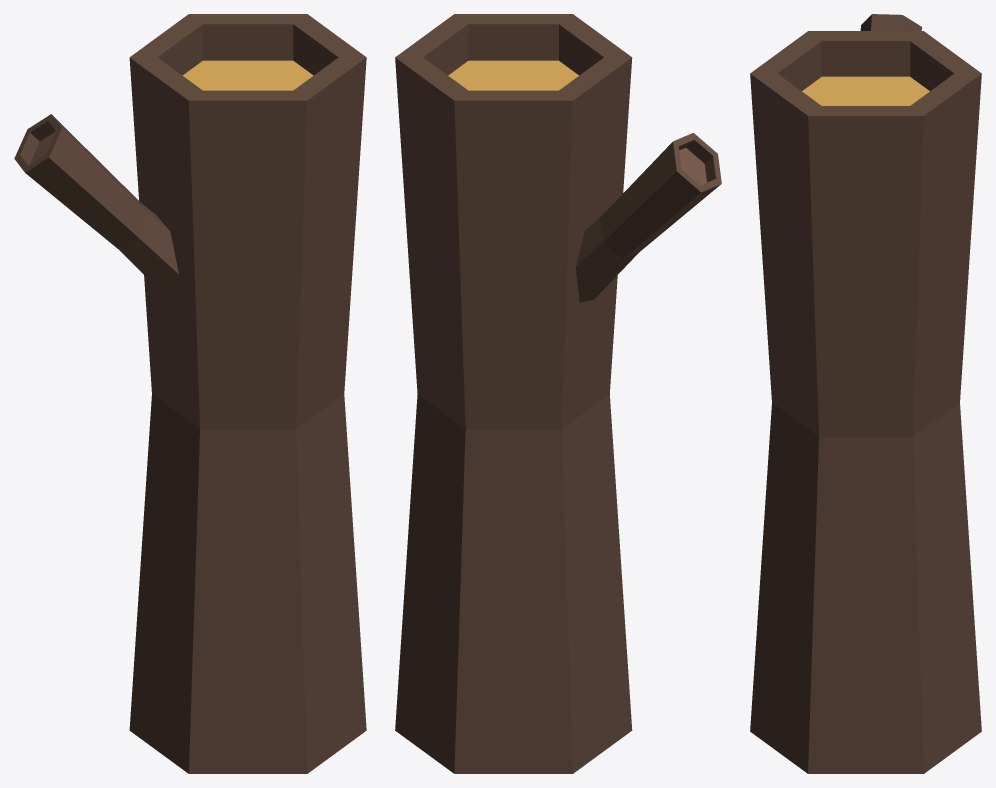
Rendered from Mesh_Log_OneBranch.glb.
3 views of the same model, side by side, from view 1: azimuth 30°, elevation 25°; view 2: azimuth 150°, elevation 25°; view 3: azimuth 270°, elevation 25° (orthographic). The views are drawn at different scales.
Parts seen in each view (by area): view 1: Mesh_Log_OneBranch; view 2: Mesh_Log_OneBranch; view 3: Mesh_Log_OneBranch.
Boxes of the visible parts, x1,y1,x2,y2 form: Mesh_Log_OneBranch: (14, 14, 366, 773); Mesh_Log_OneBranch: (395, 14, 721, 773); Mesh_Log_OneBranch: (750, 14, 981, 773).
Size of the model in its own units: 0.2345 by 0.4953 by 0.1581.
Materials: 1 (1 with a texture image).
